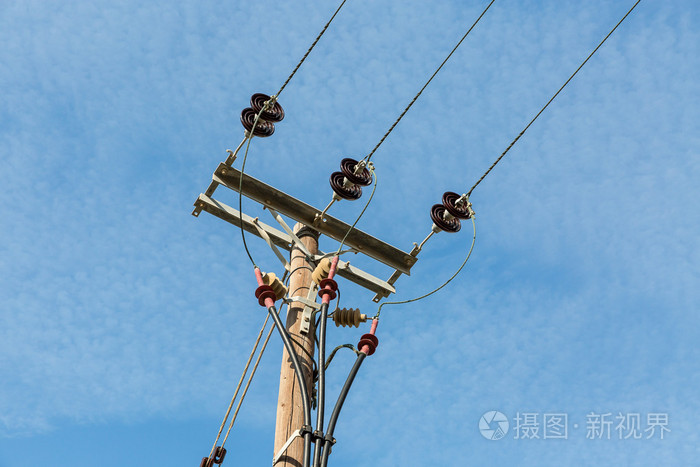insulator: (328, 158, 374, 202), (239, 92, 282, 137), (427, 191, 474, 232), (333, 307, 364, 329), (264, 273, 287, 300), (316, 279, 341, 300), (254, 285, 276, 308), (359, 333, 381, 355)
